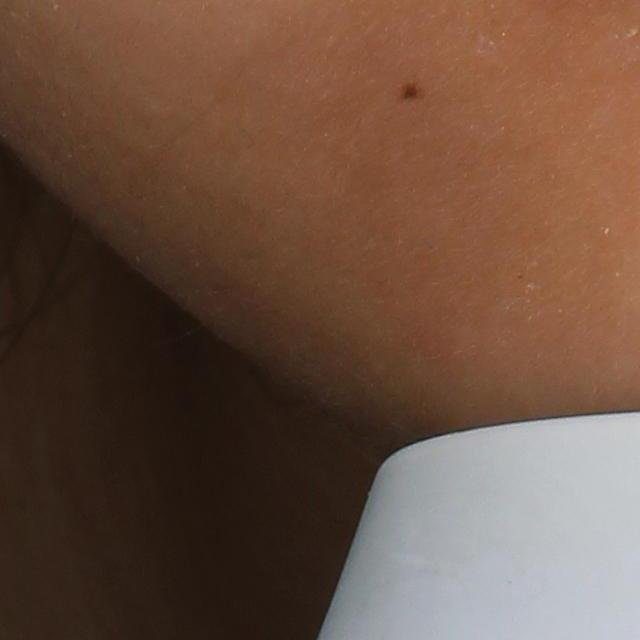nevus: (398, 71, 425, 104)
